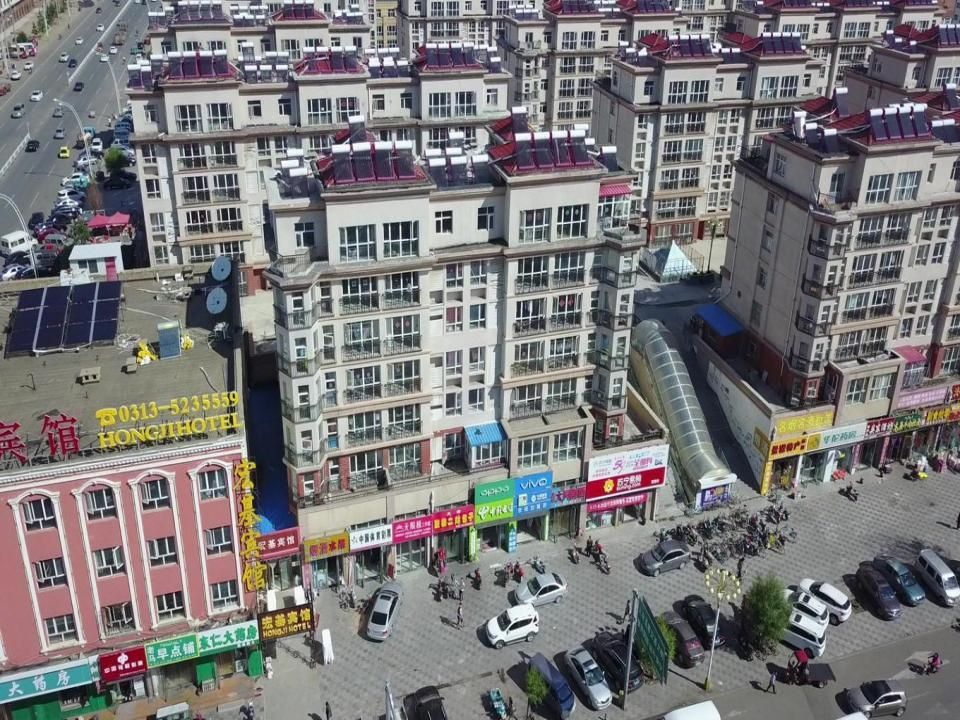bus: (10, 42, 38, 54), (3, 46, 29, 58)
car: (564, 644, 613, 710), (591, 632, 644, 693), (872, 553, 925, 607), (844, 677, 907, 720), (796, 578, 852, 625), (660, 610, 705, 666), (775, 588, 829, 634), (486, 602, 539, 648), (856, 565, 900, 620), (681, 594, 725, 649), (366, 582, 404, 640), (513, 572, 568, 608), (640, 539, 690, 576), (411, 685, 449, 720), (15, 266, 50, 286), (0, 264, 34, 282), (4, 250, 38, 268), (34, 221, 66, 236), (37, 228, 67, 243), (56, 187, 86, 202), (47, 212, 78, 226), (54, 197, 82, 211), (103, 176, 131, 190), (109, 168, 136, 182), (50, 204, 79, 217), (61, 172, 90, 185), (110, 154, 136, 166), (30, 210, 45, 230), (73, 154, 98, 166), (111, 144, 136, 156), (78, 149, 105, 160), (12, 102, 26, 117), (74, 165, 93, 176), (91, 138, 103, 152), (27, 140, 40, 152), (54, 126, 67, 138), (30, 89, 43, 101), (58, 145, 70, 157), (53, 106, 65, 117), (73, 81, 84, 91), (11, 70, 22, 80), (59, 51, 69, 62), (24, 60, 34, 70), (68, 58, 77, 67), (109, 46, 118, 54), (100, 54, 110, 61), (75, 36, 83, 44), (96, 23, 104, 31)
truck: (76, 126, 96, 150), (112, 22, 128, 45)
van: (524, 652, 576, 720), (764, 608, 826, 659), (914, 547, 960, 609), (1, 230, 39, 257), (30, 248, 62, 268), (42, 234, 70, 253), (110, 137, 131, 152), (113, 127, 130, 141), (115, 121, 131, 132)
